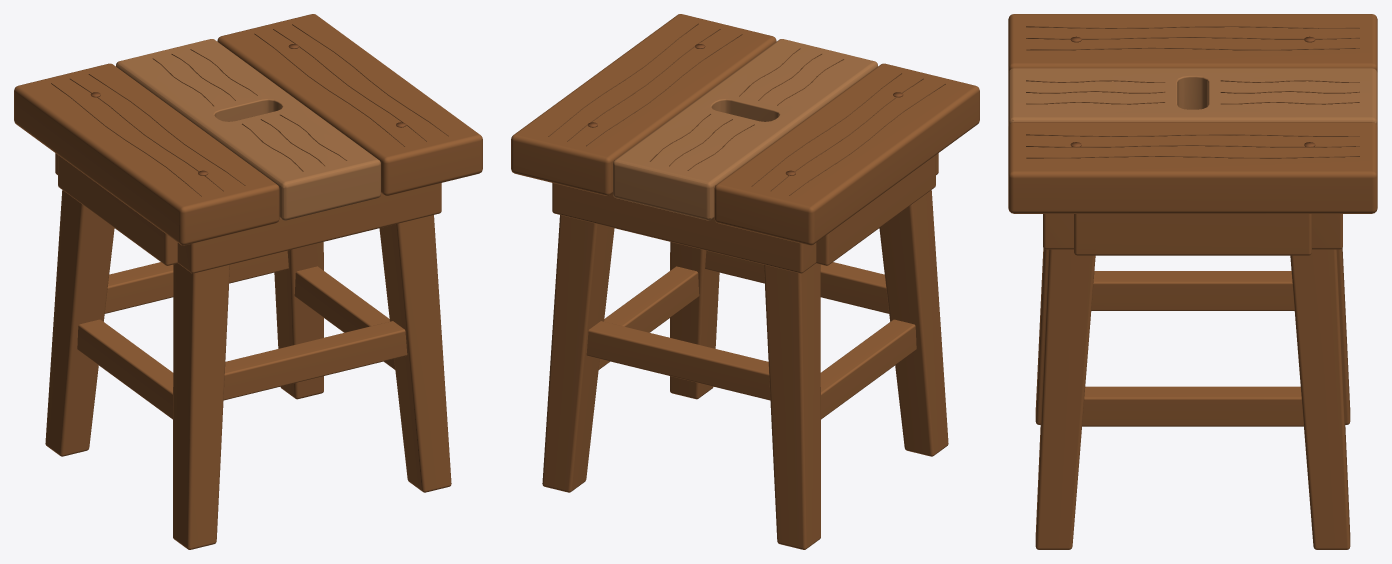
Rendered from HH02_ElmStool.fbx.
The picture shows the model from 3 angles, left to right: view 1: azimuth 30°, elevation 25°; view 2: azimuth 150°, elevation 25°; view 3: azimuth 270°, elevation 25°; orthographic projection. The views are drawn at different scales.
Visible parts, largest first — view 1: Seat_plank_-1, Seat_plank_1, Seat_plank_0, Splayed_leg, Splayed_leg.002, Seat_apron_frame, Splayed_leg.001, Cross_stretchers, Side_stretchers, Splayed_leg.003, Seat_grain_details; view 2: Seat_plank_-1, Seat_plank_1, Seat_plank_0, Splayed_leg.001, Splayed_leg.003, Seat_apron_frame, Splayed_leg, Cross_stretchers, Side_stretchers, Splayed_leg.002, Seat_grain_details; view 3: Seat_plank_1, Seat_plank_-1, Seat_plank_0, Side_stretchers, Splayed_leg.002, Splayed_leg.003, Seat_apron_frame, Seat_grain_details, Splayed_leg, Splayed_leg.001.
Boxes of the visible parts, x1,y1,x2,y2 form: Seat_plank_-1: [14, 63, 279, 245]; Seat_plank_1: [217, 14, 482, 195]; Seat_plank_0: [116, 39, 380, 220]; Splayed_leg: [173, 263, 229, 549]; Splayed_leg.002: [379, 215, 451, 492]; Seat_apron_frame: [55, 153, 441, 273]; Splayed_leg.001: [45, 190, 114, 456]; Cross_stretchers: [104, 250, 407, 400]; Side_stretchers: [77, 266, 395, 419]; Splayed_leg.003: [274, 242, 323, 399]; Seat_grain_details: [51, 24, 448, 196]; Seat_plank_-1: [714, 63, 979, 245]; Seat_plank_1: [511, 14, 776, 195]; Seat_plank_0: [613, 39, 877, 220]; Splayed_leg.001: [764, 263, 820, 549]; Splayed_leg.003: [542, 215, 614, 492]; Seat_apron_frame: [552, 153, 938, 273]; Splayed_leg: [879, 190, 948, 456]; Cross_stretchers: [586, 250, 889, 400]; Side_stretchers: [598, 266, 916, 419]; Splayed_leg.002: [670, 242, 719, 399]; Seat_grain_details: [548, 23, 945, 195]; Seat_plank_1: [1008, 122, 1377, 213]; Seat_plank_-1: [1008, 14, 1377, 72]; Seat_plank_0: [1008, 68, 1377, 126]; Side_stretchers: [1082, 271, 1303, 426]; Splayed_leg.002: [1035, 249, 1095, 549]; Splayed_leg.003: [1290, 249, 1350, 549]; Seat_apron_frame: [1043, 214, 1342, 255]; Seat_grain_details: [1026, 26, 1359, 158]; Splayed_leg: [1035, 248, 1048, 424]; Splayed_leg.001: [1337, 248, 1350, 424].
Size of the model in its own units: 0.343 by 0.386 by 0.332.
